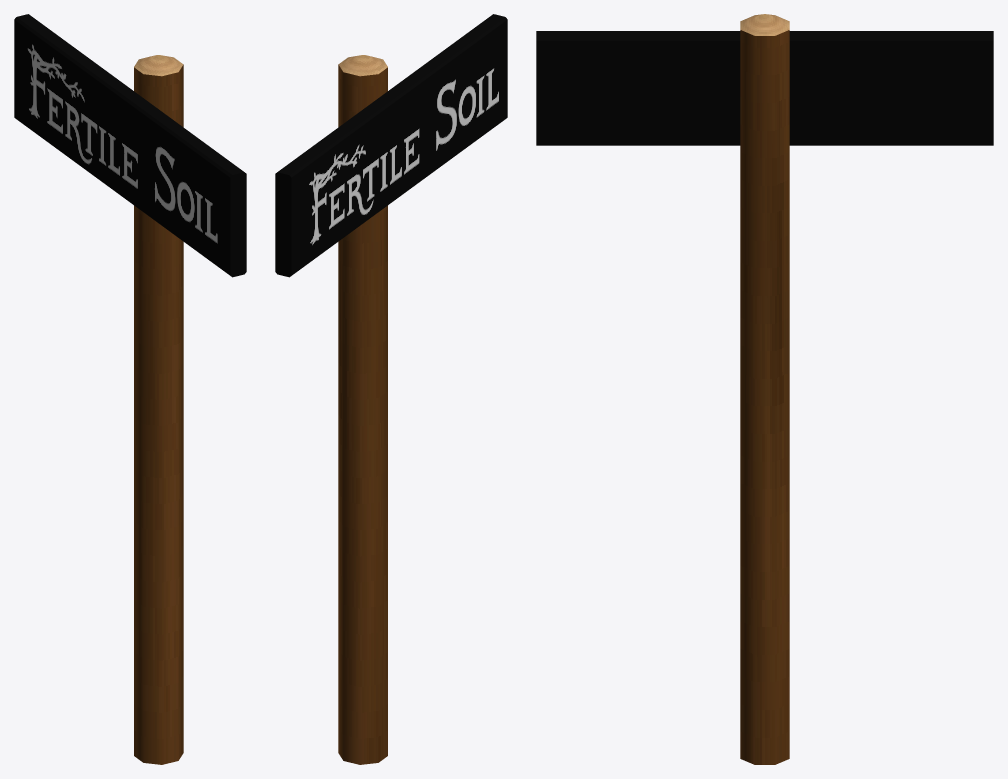
Rendered from Prop_Sign_4x1_1_1x1.fbx.
3 renders of one model, left to right at view 1: azimuth 30°, elevation 25°; view 2: azimuth 150°, elevation 25°; view 3: azimuth 270°, elevation 25°, orthographic. The views are drawn at different scales.
Parts seen in each view (by area): view 1: Prop_Sign_4x1_1_1x1; view 2: Prop_Sign_4x1_1_1x1; view 3: Prop_Sign_4x1_1_1x1.
Part boxes in pixels (x1,y1,x2,y2): Prop_Sign_4x1_1_1x1: (14,14,246,764); Prop_Sign_4x1_1_1x1: (275,14,507,764); Prop_Sign_4x1_1_1x1: (536,14,993,764).
Bounding box in the file's own units: 13.67 × 156 × 87.5.
